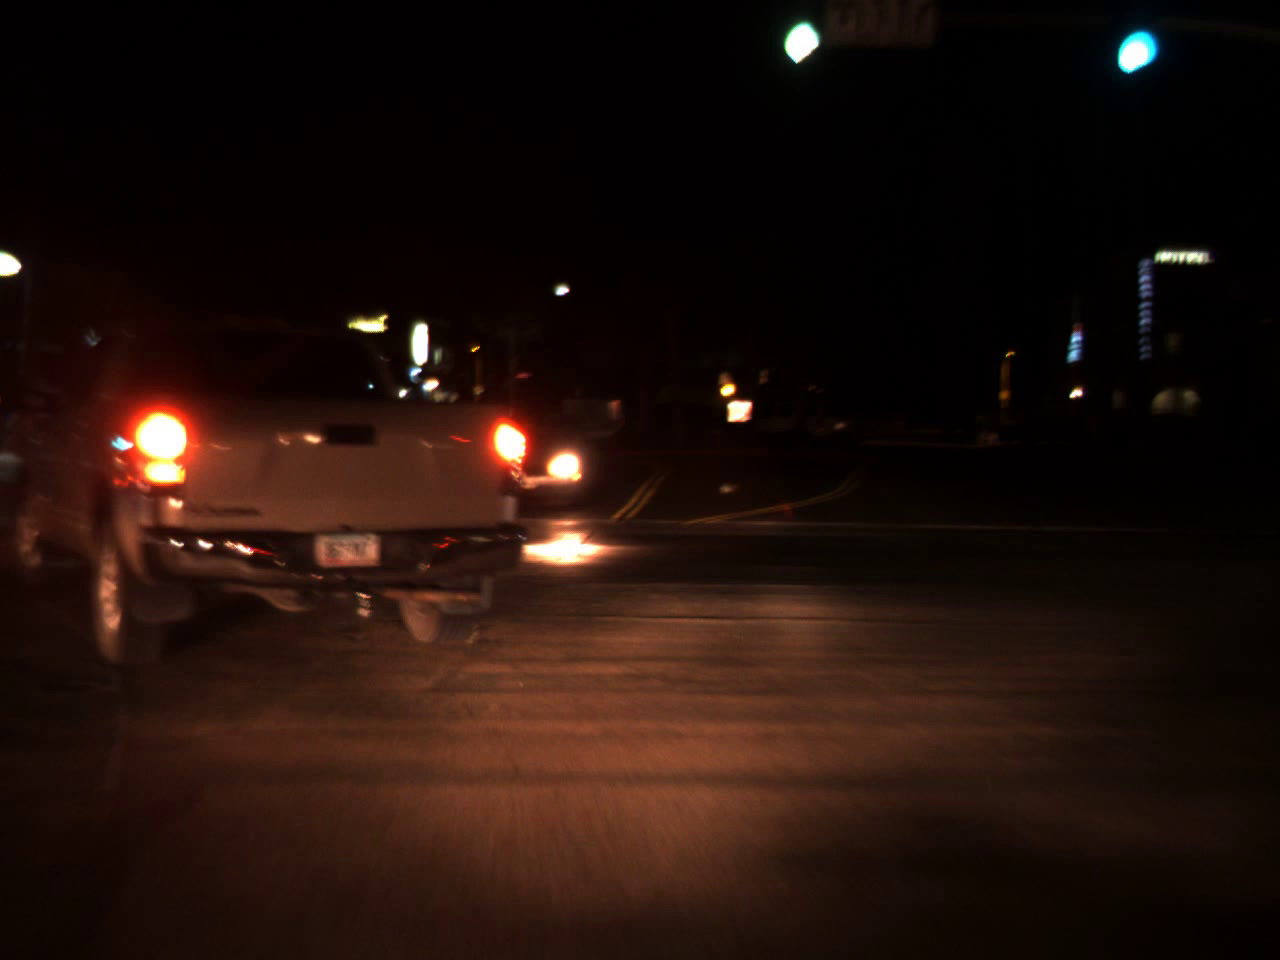go: (767, 0, 828, 77), (1105, 0, 1155, 83)
